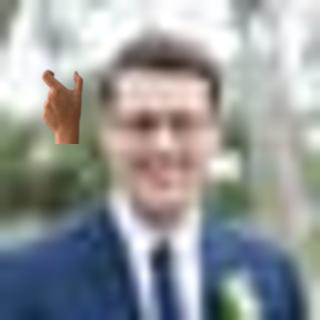HATE: (37, 57, 83, 137)
